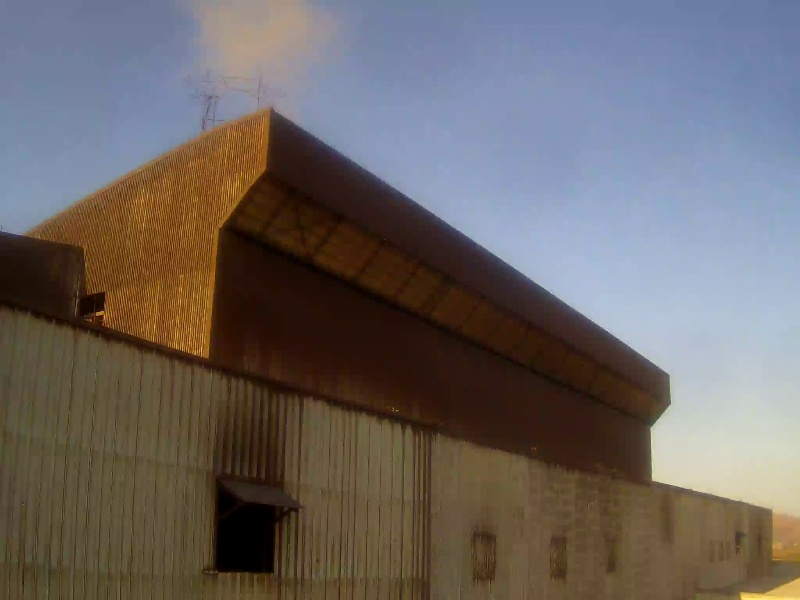bom: (340, 2, 771, 463), (3, 1, 160, 215)
ruim: (174, 2, 320, 122)
